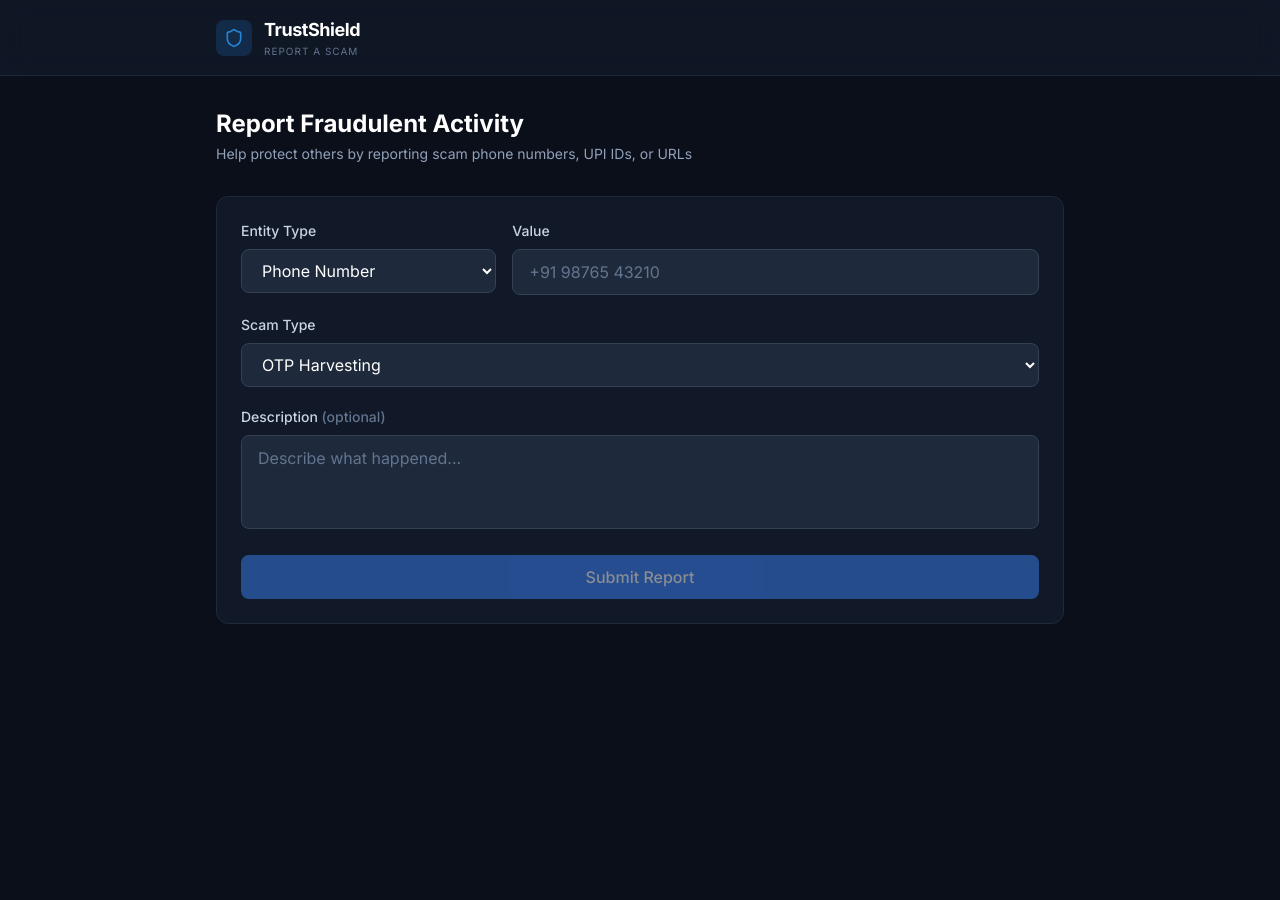
Test case: Report Page › shows error on API failure
Type "1234567890" into the field with placeholder "+91 98765 43210".
click(776, 272); type("1234567890")  # box x1=512 y1=249 x2=1039 y2=295
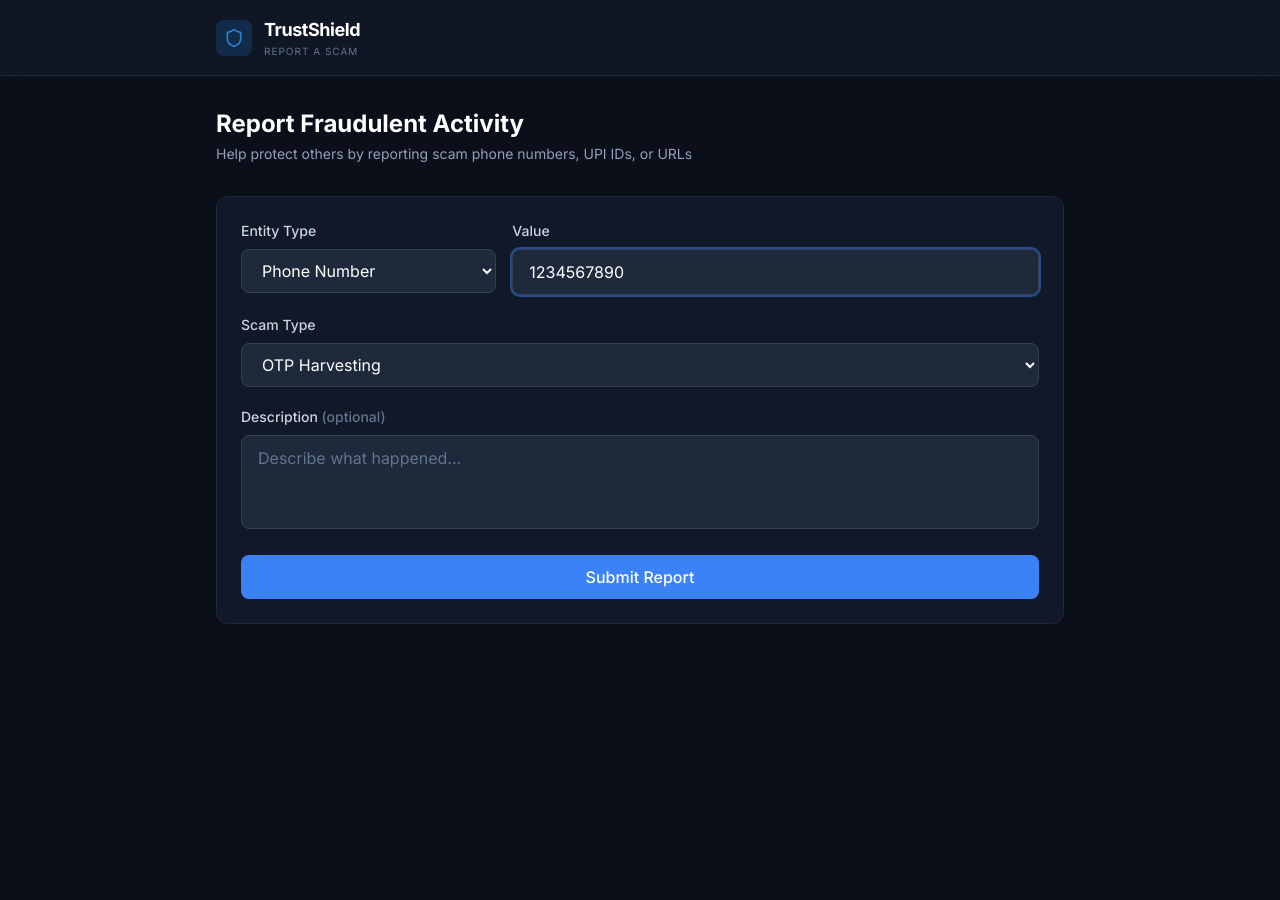
Click the button "Submit Report".
click(640, 577)  # box x1=241 y1=555 x2=1039 y2=599
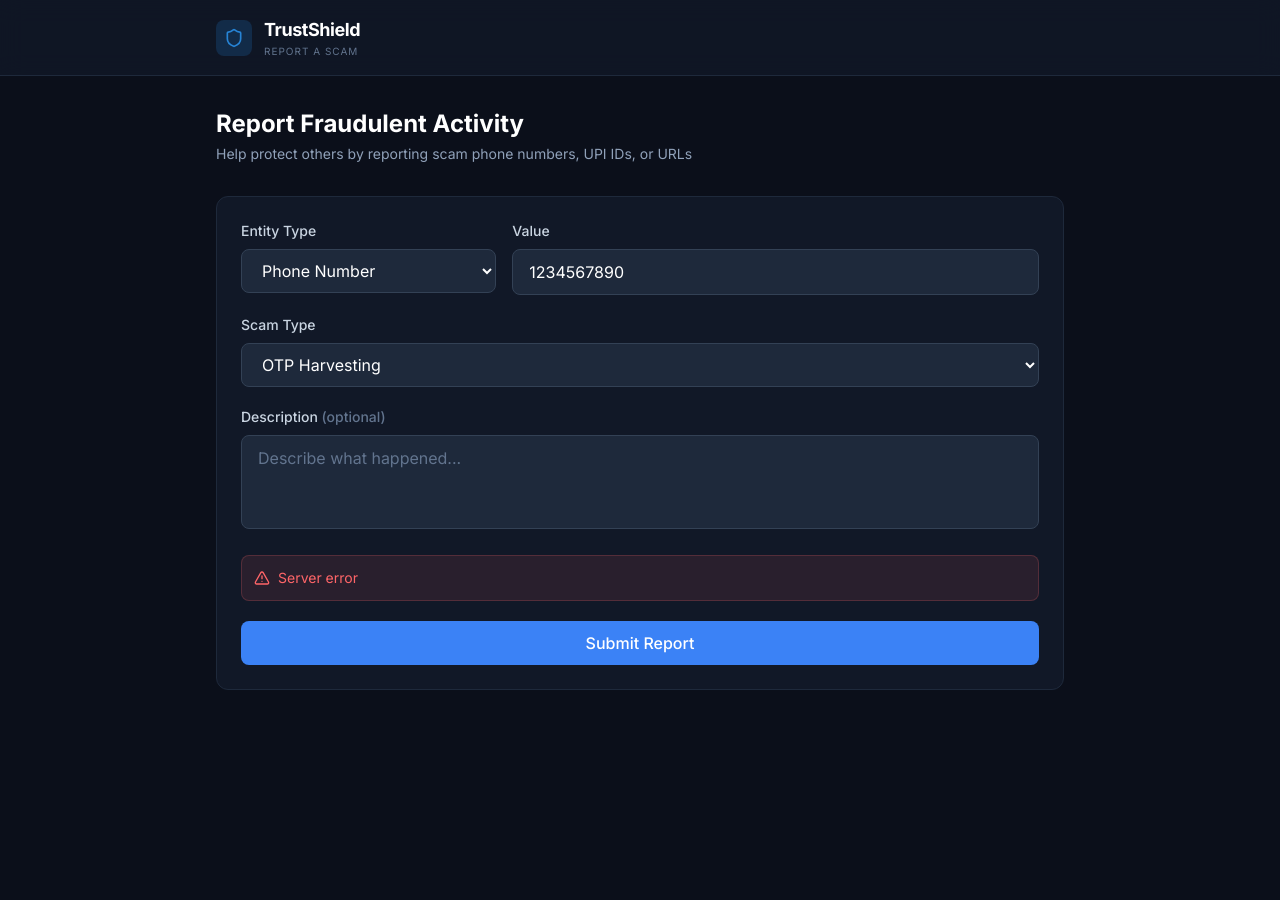
Now the text "Server error" is shown, box x1=278 y1=568 x2=358 y2=588
